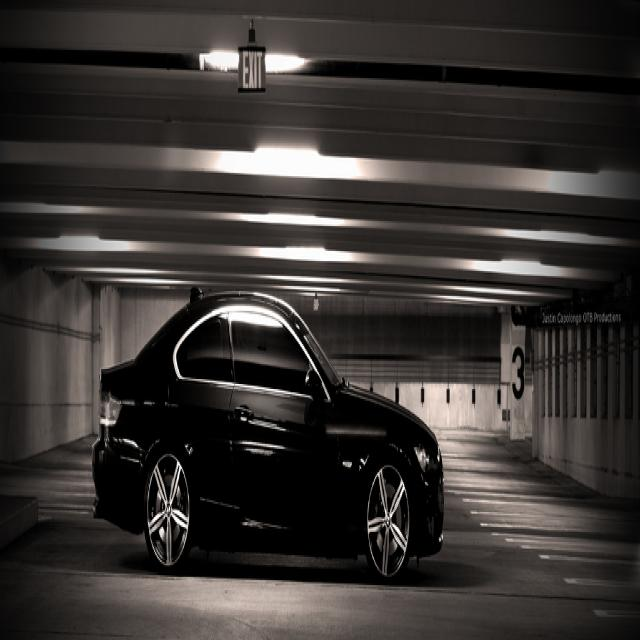car: (94, 286, 466, 577)
